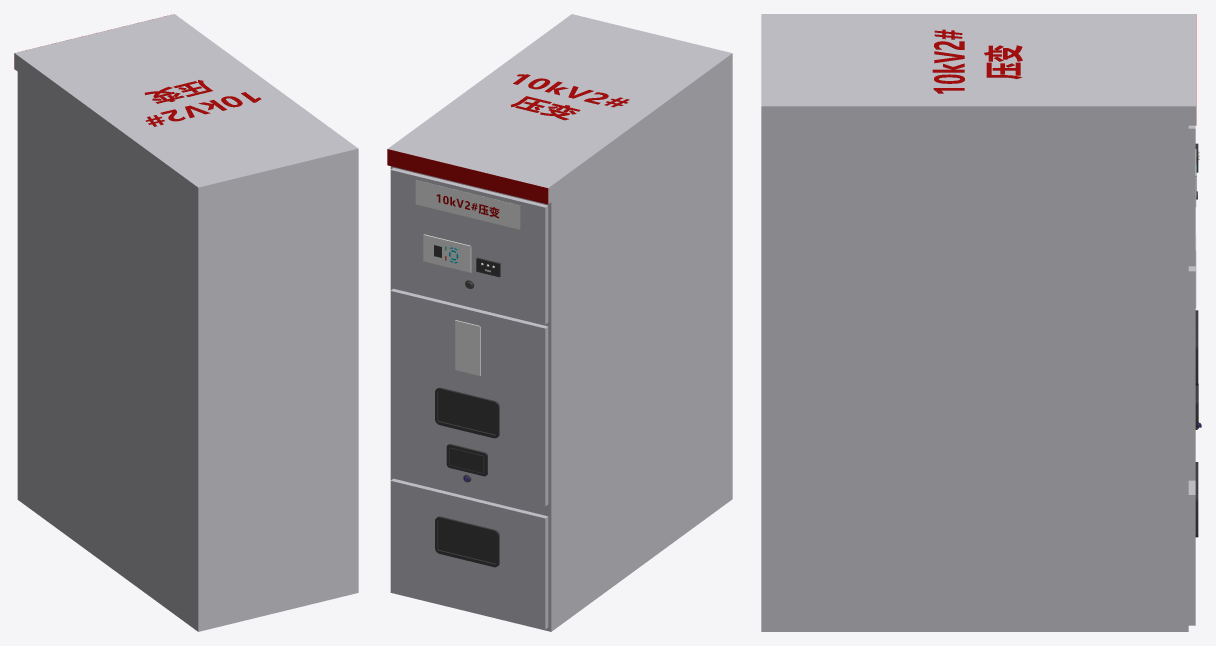
The picture shows the model from 3 angles, left to right: view 1: azimuth 30°, elevation 25°; view 2: azimuth 150°, elevation 25°; view 3: azimuth 270°, elevation 25°; orthographic projection. The views are drawn at different scales.
Visible parts, largest first — view 1: Rectangle8728, Text336; view 2: Rectangle8728, Rectangle8731, Rectangle8730, Rectangle8729, Obj3d66_1138023_124_1021, Obj3d66_1138023_124_1020, Text336, Obj3d66_1138023_187_689, Obj3d66_1138023_187_688, Obj3d66_1138023_127_204; view 3: Rectangle8728, Rectangle8731, Text336.
Boxes of the visible parts, x1,y1,x2,y2 form: Rectangle8728: (14,14,358,631); Text336: (144,80,261,126); Rectangle8728: (388,14,732,631); Rectangle8731: (390,168,548,629); Rectangle8730: (387,149,548,204); Rectangle8729: (415,180,520,229); Obj3d66_1138023_124_1021: (435,516,499,567); Obj3d66_1138023_124_1020: (435,387,499,438); Text336: (511,74,629,120); Obj3d66_1138023_187_689: (455,320,480,375); Obj3d66_1138023_187_688: (423,234,471,272); Obj3d66_1138023_127_204: (446,444,487,476); Rectangle8728: (761,14,1195,631); Rectangle8731: (1188,125,1195,625); Text336: (932,29,1022,93).
Bounding box in the file's own units: 830 × 2201 × 1671.
